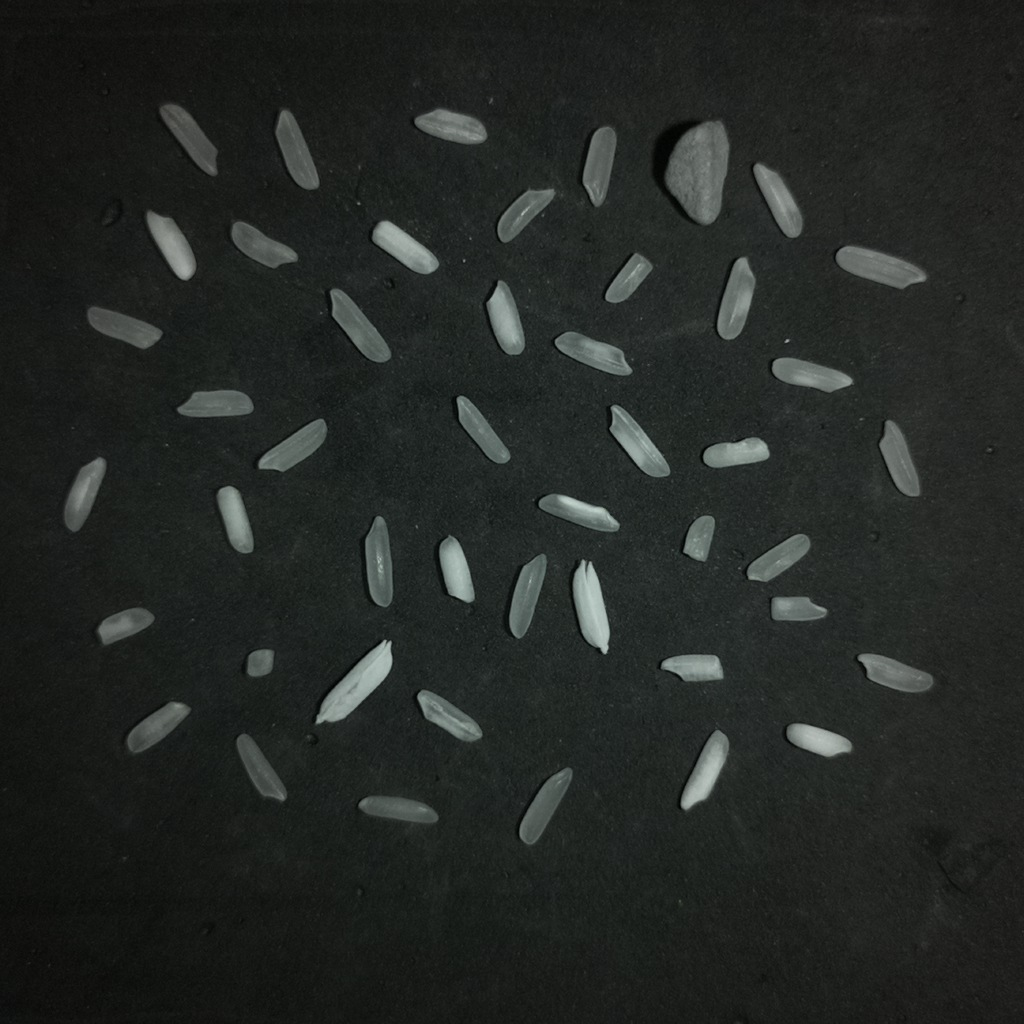broken: (606, 253, 652, 302), (683, 515, 714, 561), (770, 596, 826, 620), (247, 649, 274, 677)
chalky: (609, 405, 669, 477), (680, 730, 728, 810), (753, 163, 802, 237), (371, 220, 438, 274), (146, 211, 196, 280), (417, 690, 482, 741), (554, 332, 631, 375), (716, 257, 755, 339), (63, 457, 106, 531), (538, 494, 619, 531), (486, 280, 525, 355), (772, 357, 852, 392), (414, 108, 486, 144), (217, 486, 253, 552), (439, 535, 474, 602), (96, 607, 154, 644), (787, 723, 852, 756), (702, 437, 769, 467), (660, 654, 723, 681)
foreign: (664, 122, 729, 225), (316, 641, 392, 723), (572, 560, 609, 653)
whole: (329, 288, 390, 362), (159, 103, 216, 175), (519, 767, 572, 844), (836, 246, 926, 289), (257, 418, 326, 471), (456, 395, 509, 463), (275, 109, 319, 189), (125, 701, 190, 753), (236, 734, 286, 801), (87, 306, 162, 349), (879, 420, 920, 496), (509, 554, 546, 638), (230, 221, 296, 268), (497, 189, 554, 242), (746, 534, 810, 581), (857, 654, 933, 692), (582, 126, 616, 206), (364, 515, 392, 606), (358, 795, 438, 823), (177, 390, 253, 417)
